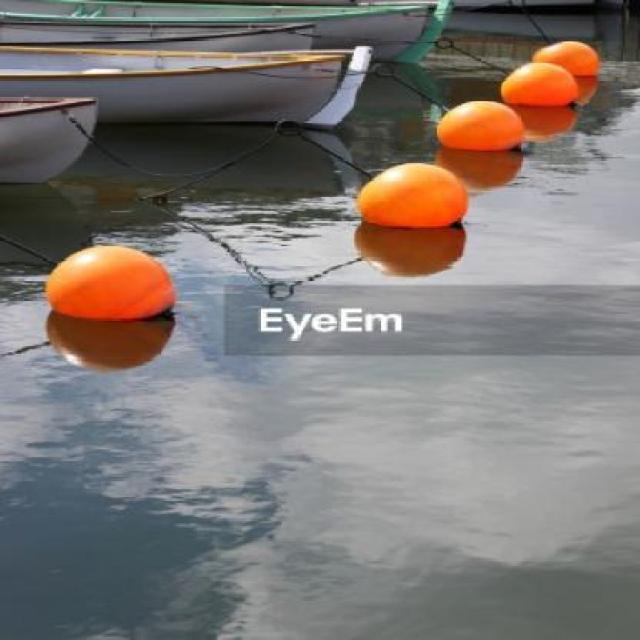a: (34, 239, 206, 325), (340, 153, 483, 237), (415, 103, 556, 167), (488, 60, 602, 122)
